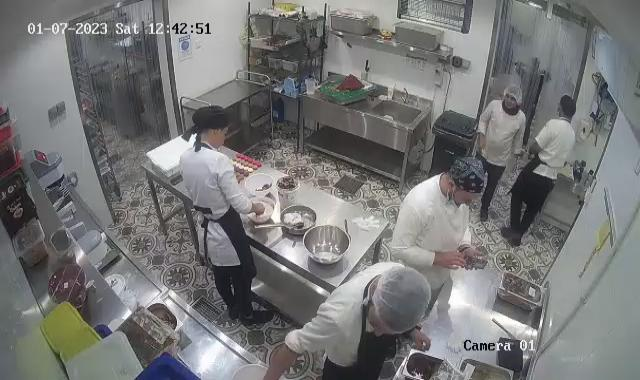hairnet: (372, 263, 431, 339), (504, 84, 522, 107)
no_hairnet: (445, 157, 485, 199), (199, 106, 230, 146), (556, 94, 576, 120)
